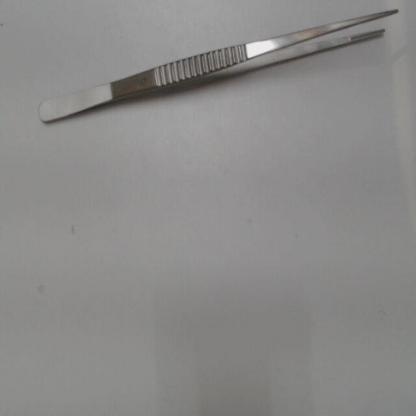DeBakey Dissector: (33, 3, 405, 146)
